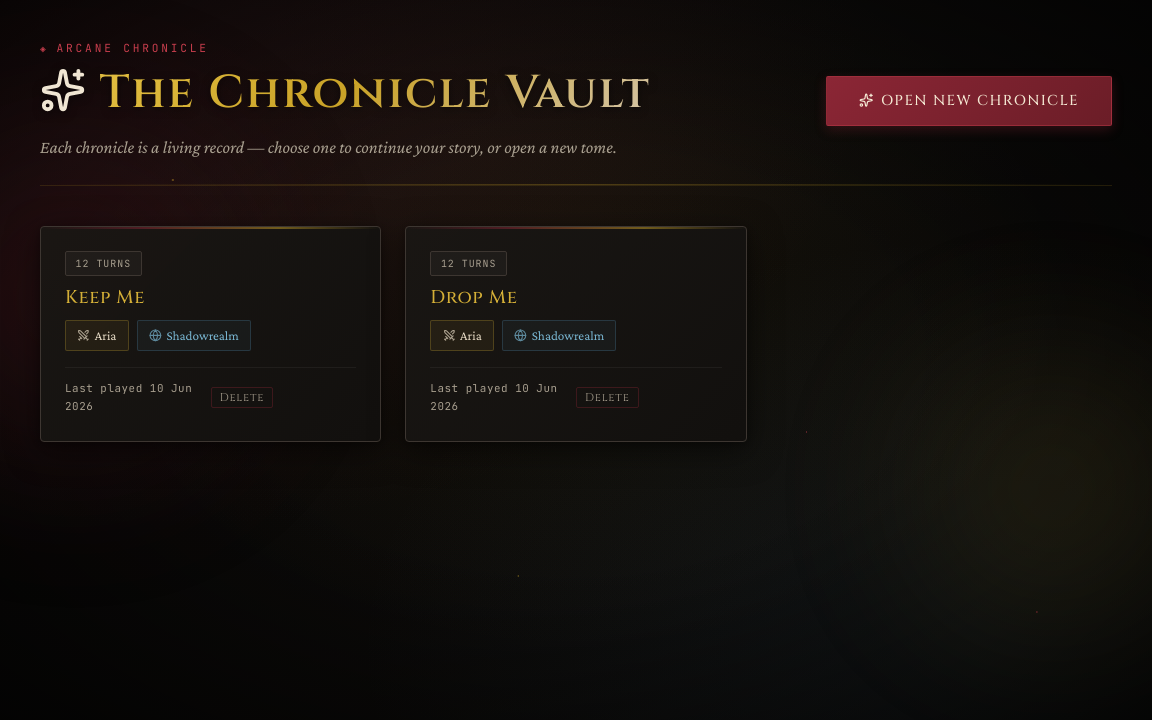
Test case: ChronicleHub delete flow › deletes a chronicle after confirmation and removes its card
Click the 2nd button "Delete".
click(607, 398)  # box x1=576 y1=387 x2=639 y2=408
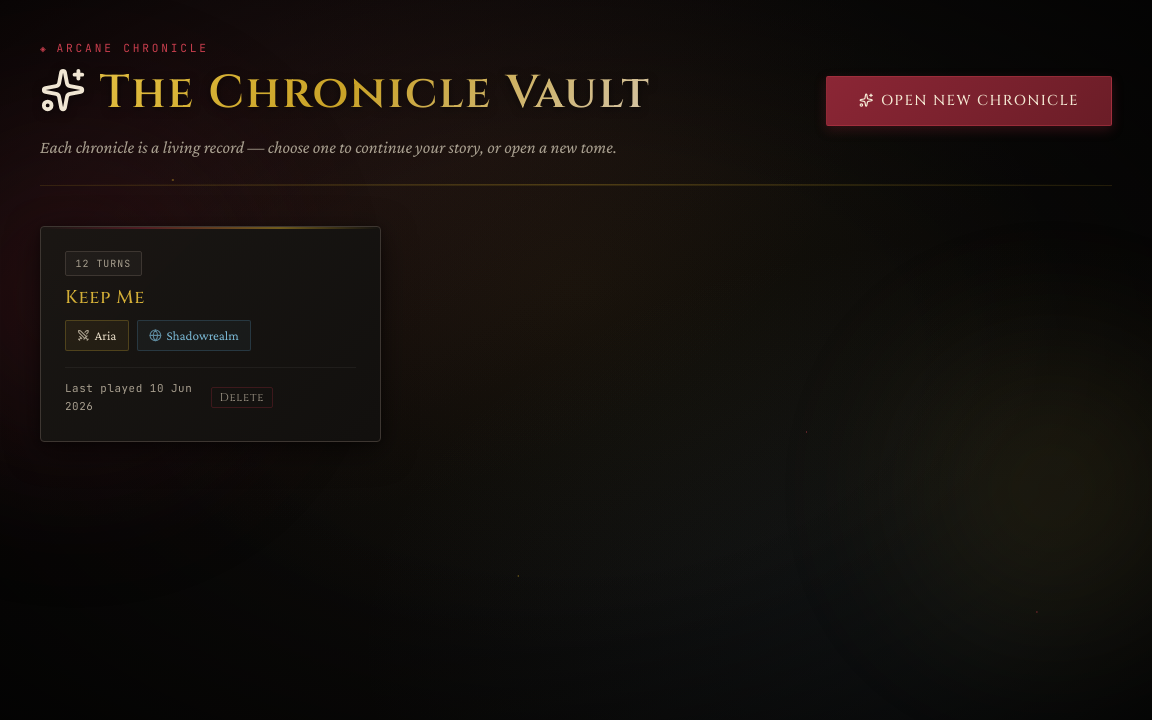
Expected: the heading "Keep Me" is shown, x1=65 y1=285 x2=145 y2=310
Expected: the button "Drop Me" is gone
